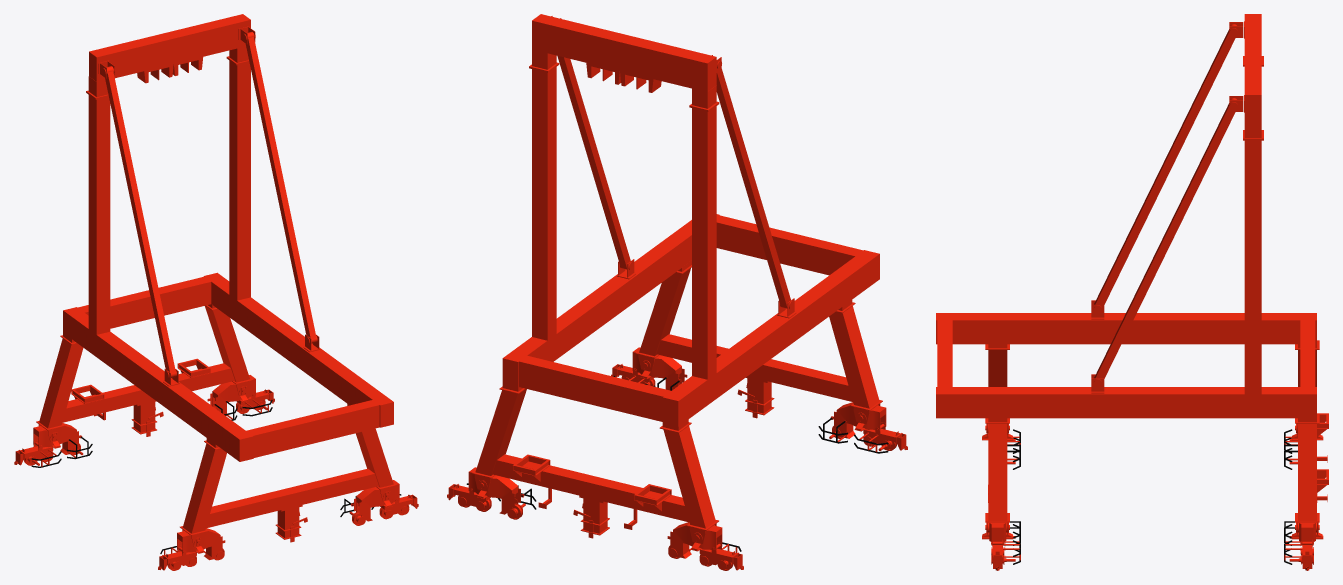
The picture shows the model from 3 angles, left to right: view 1: azimuth 30°, elevation 25°; view 2: azimuth 150°, elevation 25°; view 3: azimuth 270°, elevation 25°; orthographic projection. The views are drawn at different scales.
Visible parts, largest first — view 1: 立方体.8_3, 立方体.2_3, 立方体.4_2, 立方体.1_2, 立方体.3, 立方体.2, 立方体.4, 立方体.3_3, 立方体.7_1, 立方体.7, 立方体.12_4, 立方体.4_3 (+3 smaller); view 2: 立方体.8_3, 立方体.2_3, 立方体.3, 立方体.2, 立方体.4, 立方体.4_2, 立方体.1_2, 立方体.4_3, 立方体.3_3, 立方体.12_4, 立方体.7_1, 立方体.7 (+4 smaller); view 3: 立方体.1_2, 立方体.2_3, 立方体.2, 立方体.8_3, 立方体.7_1, 立方体.7, 立方体.4, 立方体.4_3, 立方体.3_3, 立方体.12_4.
Part boxes in pixels (x1,y1,x2,y2): 立方体.8_3: (39,305,393,533); 立方体.2_3: (63,307,253,461); 立方体.4_2: (62,363,378,528); 立方体.1_2: (203,272,393,427); 立方体.3: (88,76,110,337); 立方体.2: (229,46,250,303); 立方体.4: (89,14,250,81); 立方体.3_3: (233,396,390,457); 立方体.7_1: (105,71,175,373); 立方体.7: (245,37,316,338); 立方体.12_4: (33,375,399,560); 立方体.4_3: (65,273,223,328); 立方体.8_3: (475,268,879,528); 立方体.2_3: (662,250,879,426); 立方体.3: (692,85,716,382); 立方体.2: (532,49,556,343); 立方体.4: (532,14,716,91); 立方体.4_2: (492,334,852,522); 立方体.1_2: (502,214,719,387); 立方体.4_3: (512,352,686,421); 立方体.3_3: (716,214,877,275); 立方体.12_4: (468,347,886,558); 立方体.7_1: (716,69,790,307); 立方体.7: (557,56,630,268); 立方体.1_2: (936,387,1316,418); 立方体.2_3: (936,313,1316,344); 立方体.2: (1244,121,1261,394); 立方体.8_3: (988,350,1316,520); 立方体.7_1: (1094,29,1235,304); 立方体.7: (1094,103,1235,378); 立方体.4: (1244,14,1261,121); 立方体.4_3: (1300,316,1315,393); 立方体.3_3: (937,316,952,393); 立方体.12_4: (989,522,1315,545).
Bounding box in the file's own units: 341 × 525 × 413.
